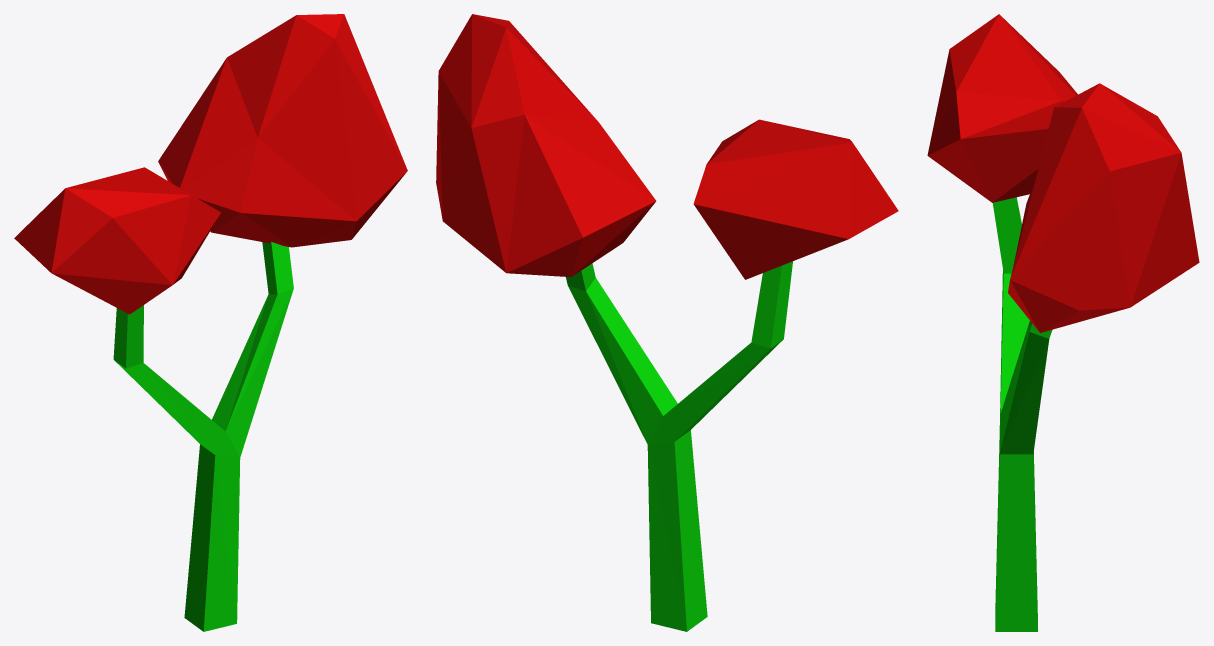
The model's file is tree.fbx.
3 views of the same model, side by side, from view 1: azimuth 30°, elevation 25°; view 2: azimuth 150°, elevation 25°; view 3: azimuth 270°, elevation 25° (orthographic). The views are drawn at different scales.
Visible parts, largest first — view 1: Tree; view 2: Tree; view 3: Tree.
Boxes of the visible parts, bbox=[...] form: Tree: bbox=[14, 14, 407, 631]; Tree: bbox=[436, 14, 898, 631]; Tree: bbox=[927, 14, 1199, 631].
Bounding box in the file's own units: 455 × 628 × 255.
